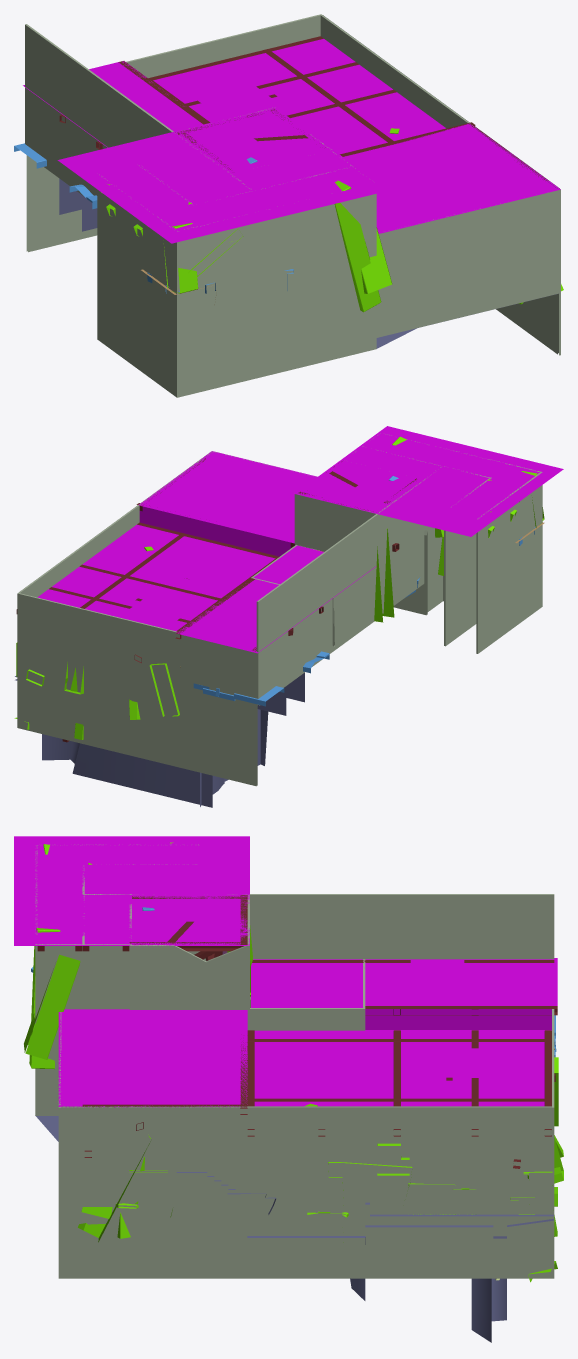
The model's file is nvl_4_probando (2).fbx.
3 renders of one model, top to bottom at view 1: azimuth 30°, elevation 25°; view 2: azimuth 150°, elevation 25°; view 3: azimuth 270°, elevation 25°, orthographic. The views are drawn at different scales.
Visible parts, largest first — view 1: PAREDES, Techo, VIGA, PROTU_PAREDES, Piso, PROTU_SUELO; view 2: PAREDES, Techo, Piso, VIGA, PROTU_PAREDES, PROTU_SUELO; view 3: PAREDES, Techo, VIGA, PROTU_PAREDES, Piso, HUECO.
Boxes of the visible parts, x1,y1,x2,y2 form: PAREDES: [25, 14, 560, 397]; Techo: [23, 39, 560, 243]; VIGA: [59, 36, 548, 180]; PROTU_PAREDES: [101, 128, 563, 312]; Piso: [59, 178, 556, 348]; PROTU_SUELO: [14, 143, 293, 293]; PAREDES: [17, 433, 542, 786]; Techo: [37, 426, 563, 653]; Piso: [15, 672, 304, 807]; VIGA: [16, 458, 416, 742]; PROTU_PAREDES: [14, 436, 544, 739]; PROTU_SUELO: [193, 476, 535, 706]; PAREDES: [35, 844, 554, 1278]; Techo: [14, 836, 557, 1107]; VIGA: [37, 895, 557, 1168]; PROTU_PAREDES: [24, 842, 563, 1282]; Piso: [36, 1116, 553, 1342]; HUECO: [59, 1107, 84, 1214].
Size of the model in its own units: 21.92 by 14.1 by 23.31.
